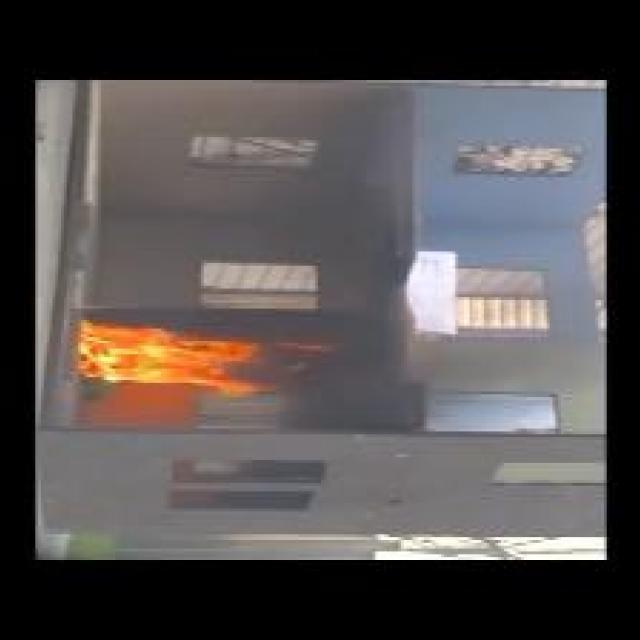Fire: (74, 322, 334, 398)
Smoke: (307, 223, 387, 419)
